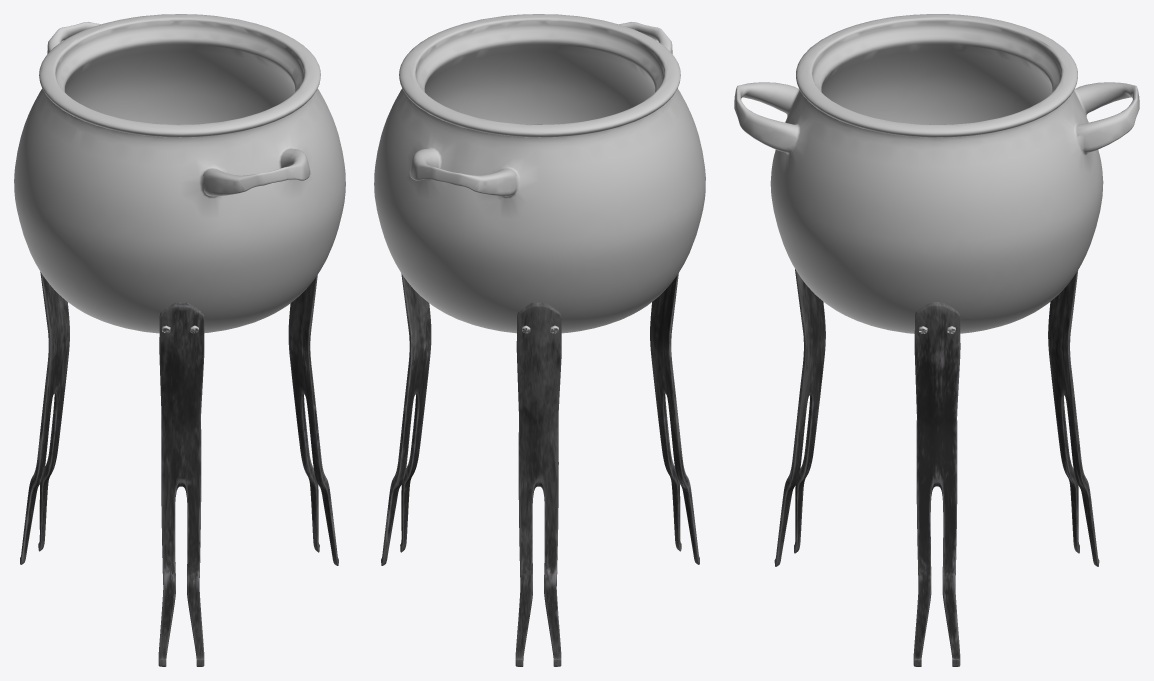
Rendered from CauldronHoch.obj.
The picture shows the model from 3 angles, left to right: view 1: azimuth 30°, elevation 25°; view 2: azimuth 150°, elevation 25°; view 3: azimuth 270°, elevation 25°; orthographic projection.
Visible parts, largest first — view 1: Cauldron_main, Feet; view 2: Cauldron_main, Feet; view 3: Cauldron_main, Feet.
Part boxes in pixels (x1,y1,x2,y2): Cauldron_main: [14, 14, 345, 333]; Feet: [20, 272, 338, 666]; Cauldron_main: [374, 14, 705, 333]; Feet: [381, 273, 699, 666]; Cauldron_main: [734, 14, 1139, 333]; Feet: [774, 269, 1099, 666].
Size of the model in its own units: 0.7615 by 1.31 by 0.9154.
